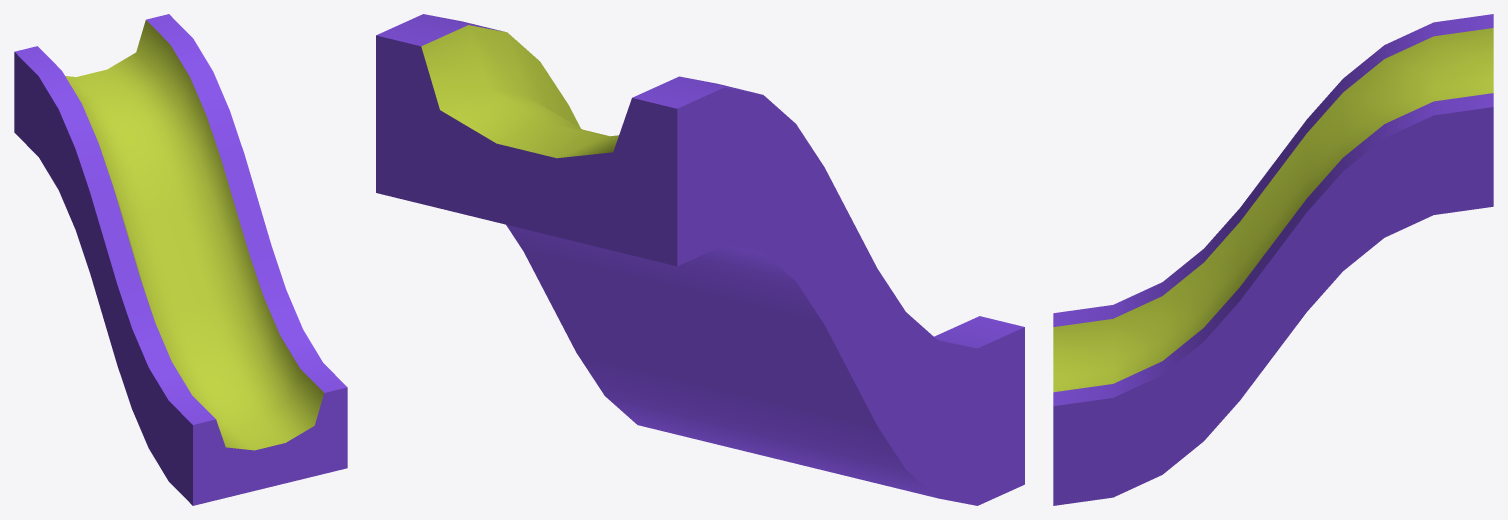
File: ramp_long_D-col.dae
3 views of the same model, side by side, from view 1: azimuth 30°, elevation 25°; view 2: azimuth 150°, elevation 25°; view 3: azimuth 270°, elevation 25° (orthographic). The views are drawn at different scales.
Parts seen in each view (by area): view 1: ramp_long_D-col; view 2: ramp_long_D-col; view 3: ramp_long_D-col.
Boxes of the visible parts, x1,y1,x2,y2 form: ramp_long_D-col: (14,14,347,505); ramp_long_D-col: (376,14,1024,505); ramp_long_D-col: (1053,14,1493,505).
Bounding box in the file's own units: 1 × 2 × 2.
